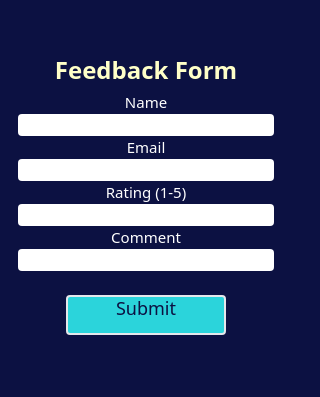
it: Validation › should display an error message if email field is inputted incorrectly
Type "ghfkeb" into the field with test id "email" at [146, 170], box left=18, top=158, right=274, bottom=181
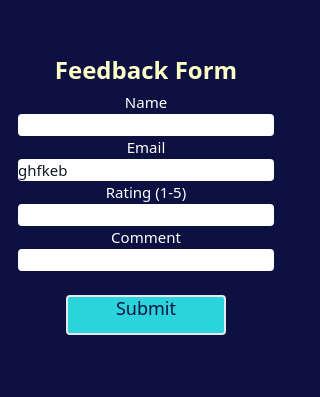
Submit the form from the button, box left=66, top=271, right=226, bottom=335
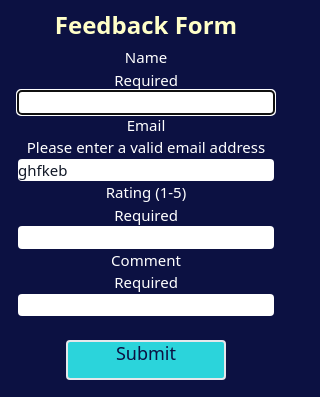
Check: the text "Please enter a valid email address" is shown, box left=27, top=136, right=265, bottom=158
